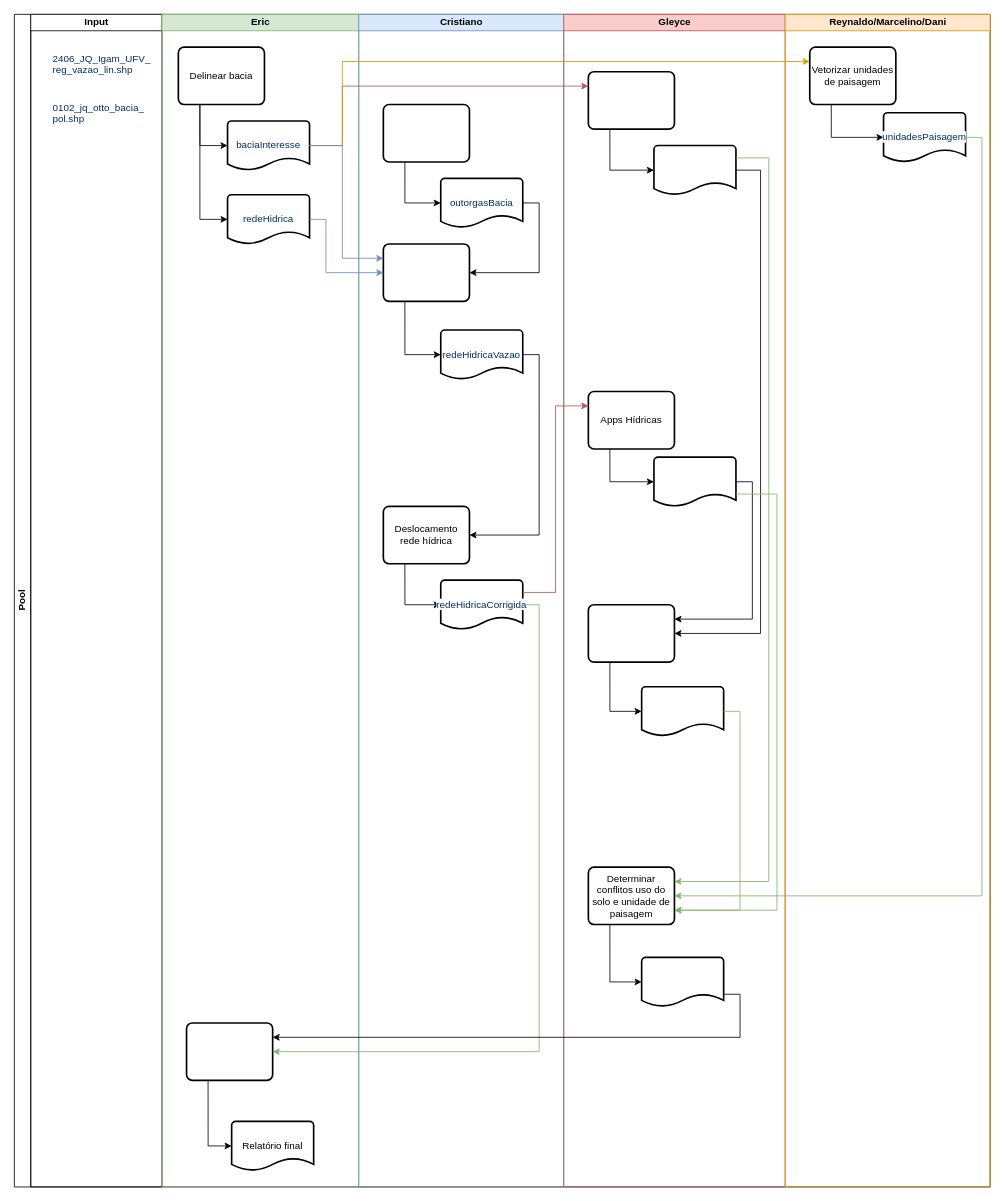
This 1005x1201 diagram has some shape labels left out. Here are the shapes that lost their labels. From the top down, the centre of each, then its label:
At point (631, 100): "Vetorizar uso do solo".
At point (426, 132): "Solicitar outorgas IGAM".
At point (694, 169): "usoSolo".
At point (426, 272): "Computar disponibilidade hídrica".
At point (694, 481): "appHidrica".
At point (631, 633): "Determinar conflitos APP e uso do solo".
At point (682, 711): "appConflito".
At point (682, 981): "upConflito".
At point (229, 1051): "Primeira versão do relatório final".
